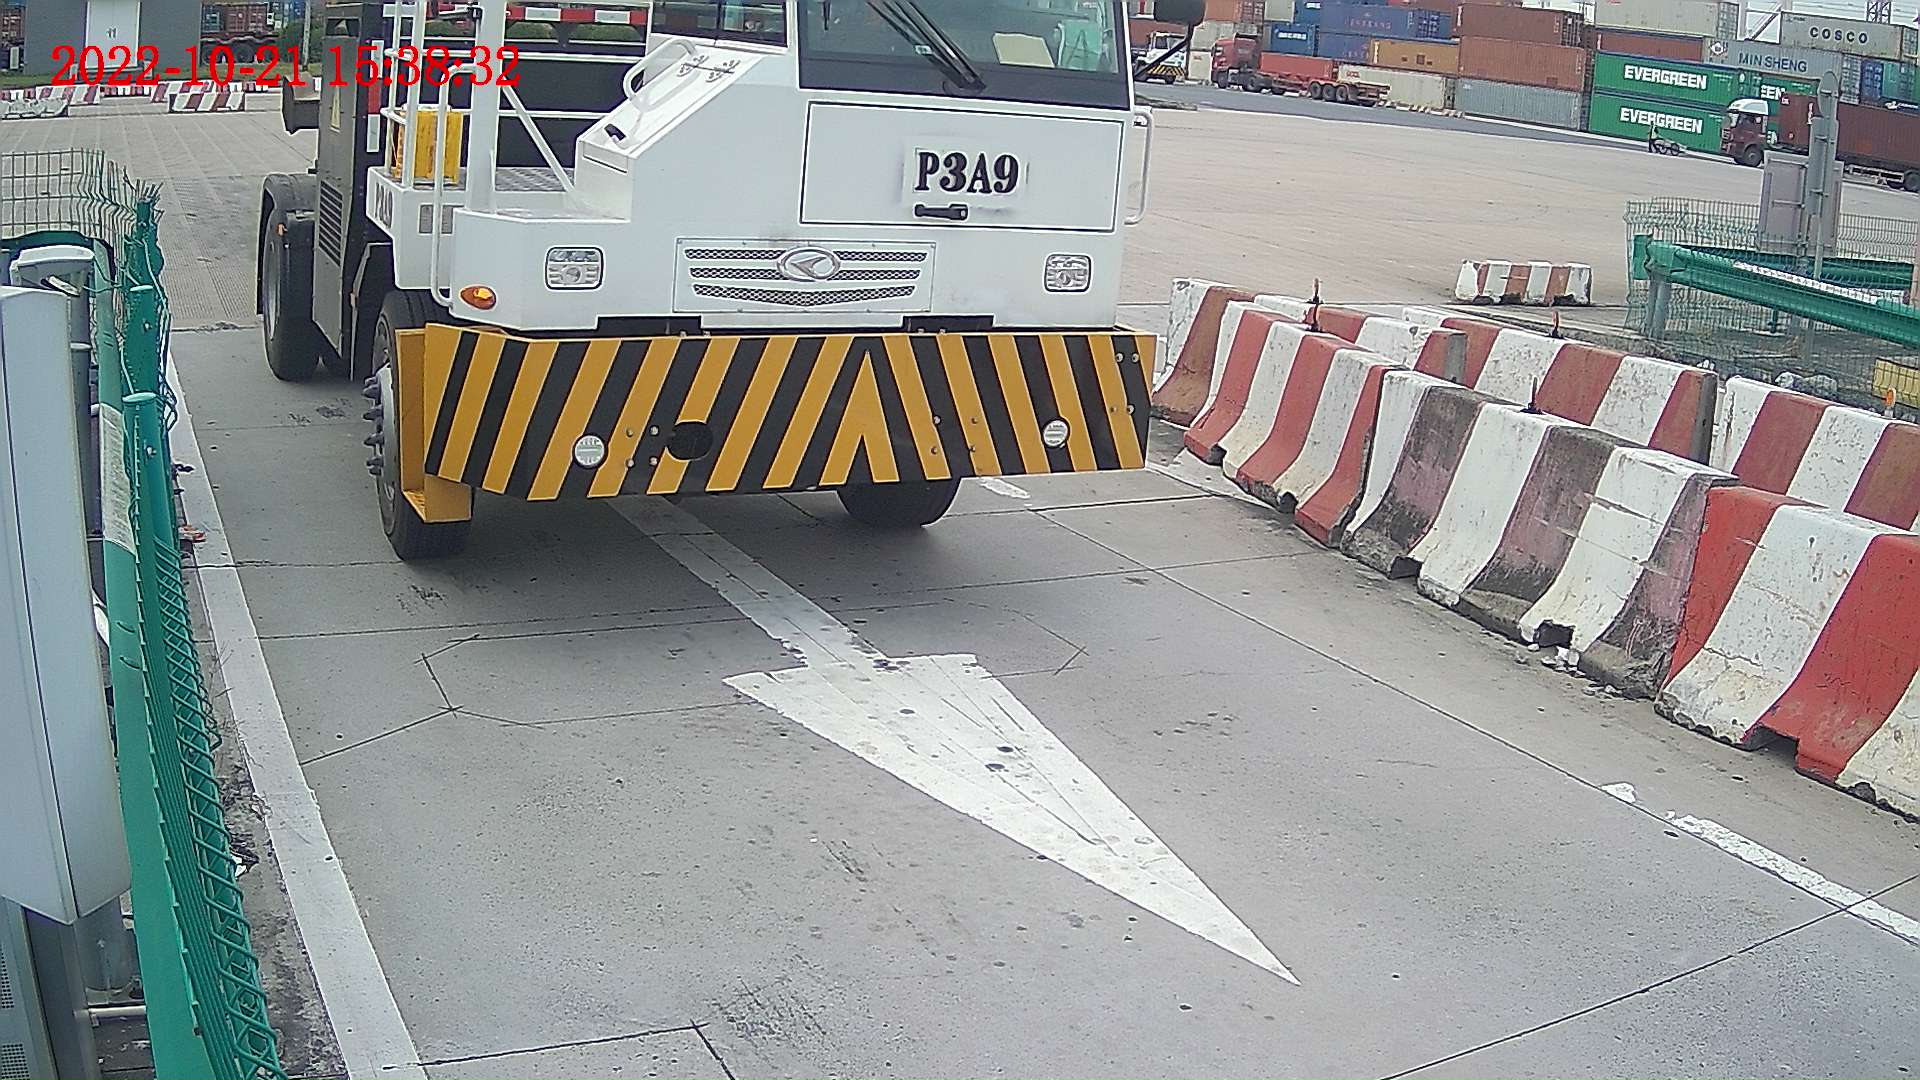head: (369, 1, 1156, 527)
